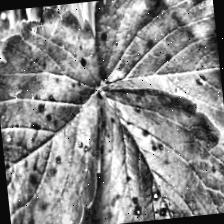Leaf Spot: (0, 1, 118, 224), (78, 74, 224, 224), (91, 0, 224, 158)
